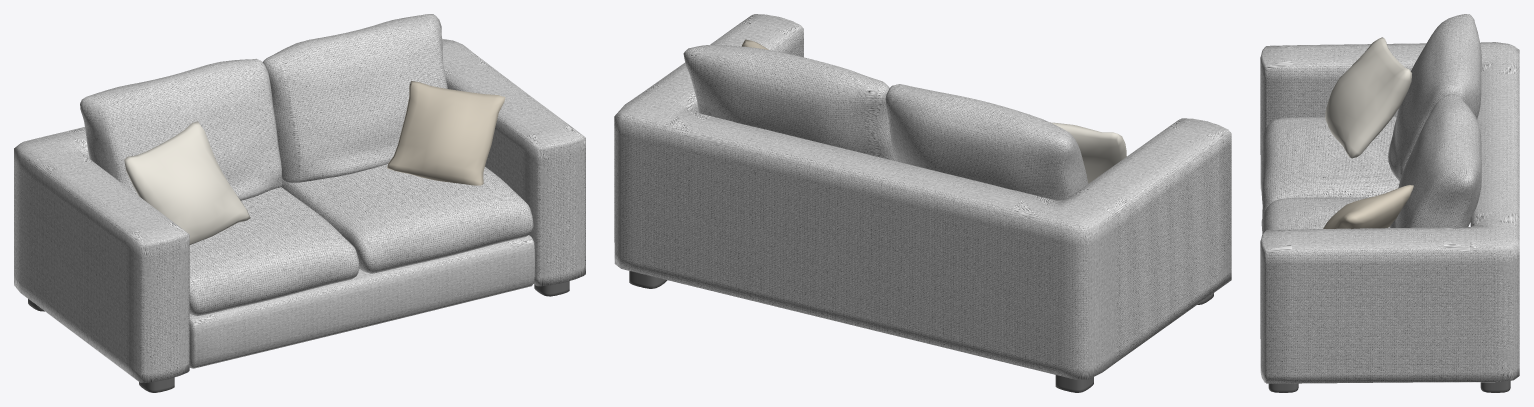
File: burlap_sofa.glb
The picture shows the model from 3 angles, left to right: view 1: azimuth 30°, elevation 25°; view 2: azimuth 150°, elevation 25°; view 3: azimuth 270°, elevation 25°; orthographic projection. The views are drawn at different scales.
Parts seen in each view (by area): view 1: back_Plane.005, bigcushion2.002_Cube.024, base_Cube.021, bigcushion2_Cube.022, base_big_cushion2_Cube.001, base_big_cushion_Cube, cushion_dark_Cube.018, cushion_clear_Cube.019; view 2: back_Plane.005, bigcushion2.002_Cube.024, bigcushion2_Cube.022, cushion_clear_Cube.019; view 3: back_Plane.005, base_big_cushion_Cube, bigcushion2.002_Cube.024, bigcushion2_Cube.022, cushion_clear_Cube.019, base_big_cushion2_Cube.001, cushion_dark_Cube.018, leg4_Cylinder.014, leg3_Cylinder.011.
Part boxes in pixels (box(x1,y1,x2,y2)): back_Plane.005: box(14, 39, 585, 382); bigcushion2.002_Cube.024: box(263, 14, 447, 182); base_Cube.021: box(189, 235, 534, 368); bigcushion2_Cube.022: box(80, 58, 282, 200); base_big_cushion2_Cube.001: box(281, 164, 533, 273); base_big_cushion_Cube: box(189, 187, 359, 316); cushion_dark_Cube.018: box(387, 81, 505, 185); cushion_clear_Cube.019: box(124, 121, 250, 244); back_Plane.005: box(614, 14, 1231, 379); bigcushion2.002_Cube.024: box(683, 44, 896, 161); bigcushion2_Cube.022: box(885, 84, 1088, 200); cushion_clear_Cube.019: box(1050, 122, 1126, 183); back_Plane.005: box(1260, 42, 1519, 383); base_big_cushion_Cube: box(1261, 116, 1399, 217); bigcushion2.002_Cube.024: box(1389, 94, 1481, 227); bigcushion2_Cube.022: box(1388, 14, 1481, 181); cushion_clear_Cube.019: box(1325, 37, 1411, 158); base_big_cushion2_Cube.001: box(1261, 197, 1389, 233); cushion_dark_Cube.018: box(1323, 185, 1413, 228); leg4_Cylinder.014: box(1480, 380, 1510, 392); leg3_Cylinder.011: box(1268, 383, 1298, 392).
Size of the model in its own units: 1.7 by 0.7972 by 0.8996.
4 materials, 1 textured.
